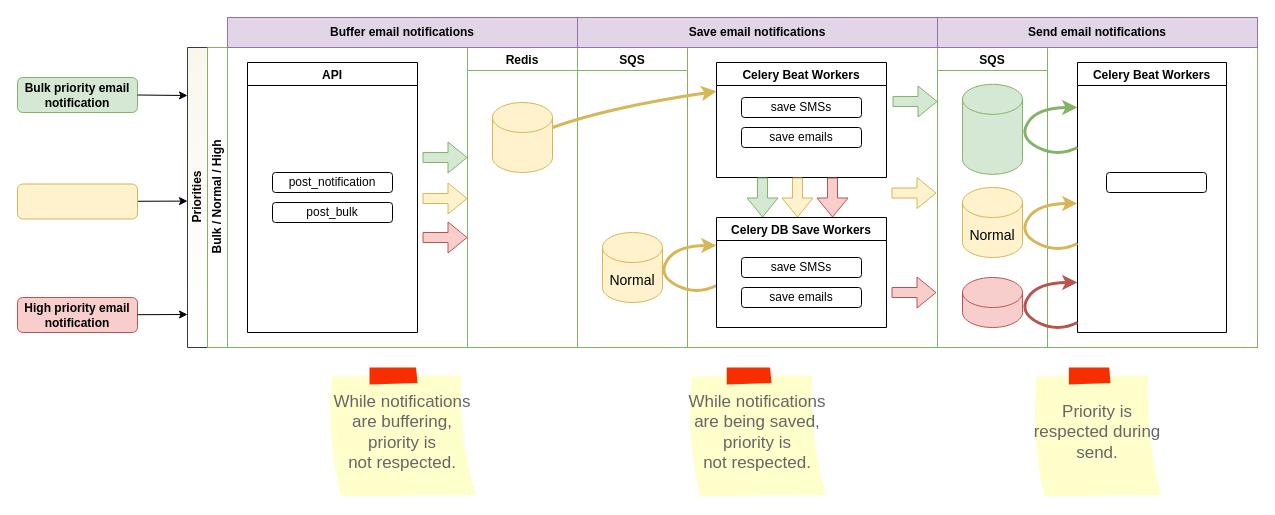
Image size: 1275x515. Some labels were removed from this diagram. Each missing label, with the centre of its shape:
"All Emails" goes at [522,137].
"Bulk" goes at [992,128].
"deliver_email" goes at [1156,182].
"High" goes at [992,302].
"Normal priority email notification" goes at [77,201].
